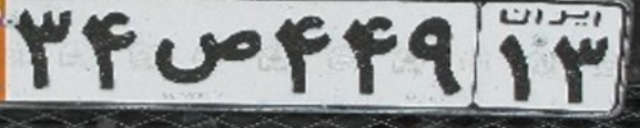1: (498, 33, 529, 101)
3: (13, 8, 72, 89), (554, 34, 609, 104)
4: (340, 14, 398, 95), (274, 14, 331, 94), (82, 10, 136, 89)
9: (408, 16, 460, 96)
saat: (154, 28, 261, 83)
